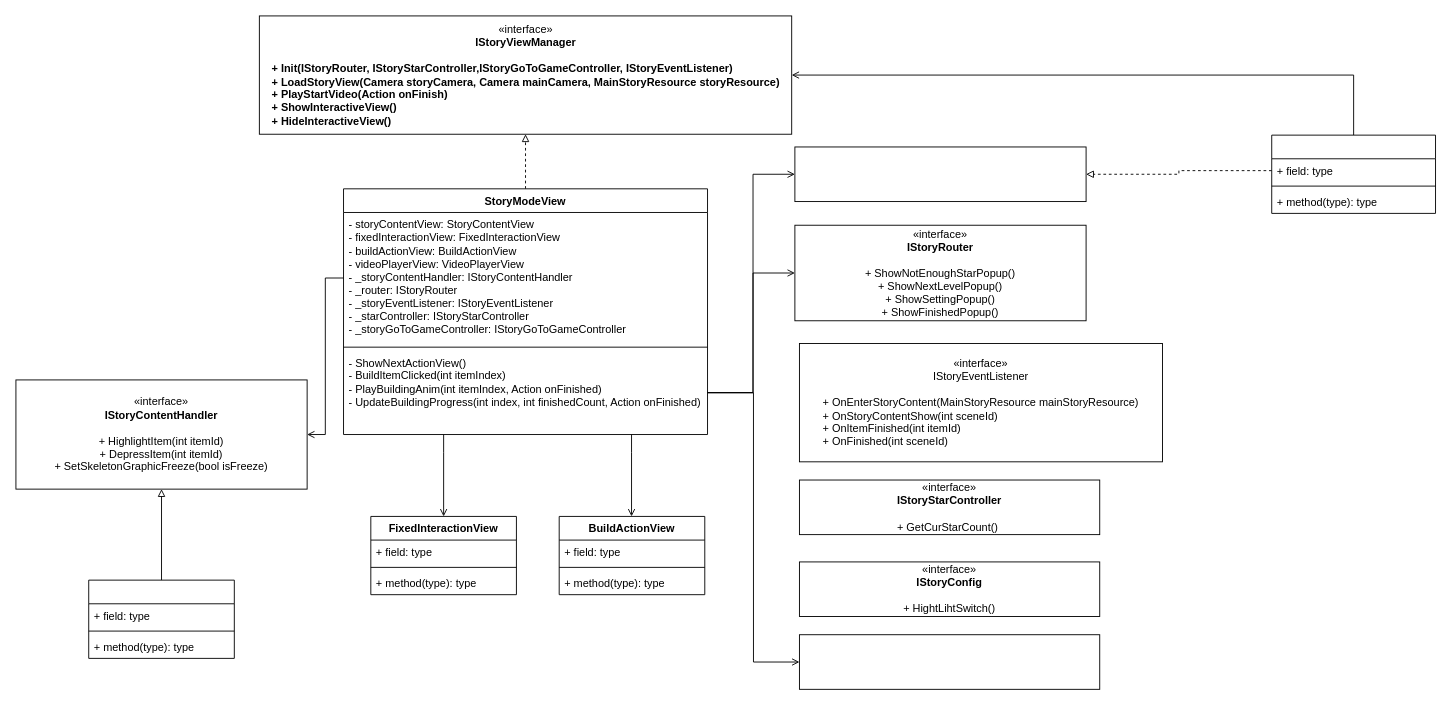
This 1451x705 diagram has some shape labels left out. The shapes that lost their labels are listed below. From the top down, each one's box as (x1, y1, x2, y2) in pixels, then its label:
(794, 146, 1086, 202): «interface» IStoryGoToGameController + GoToGame()
(1271, 134, 1436, 213): HomeView_HomeShow
(88, 579, 234, 658): StoryContentView
(799, 634, 1100, 689): «interface» IEventReprot + HightLihtSwitch()
